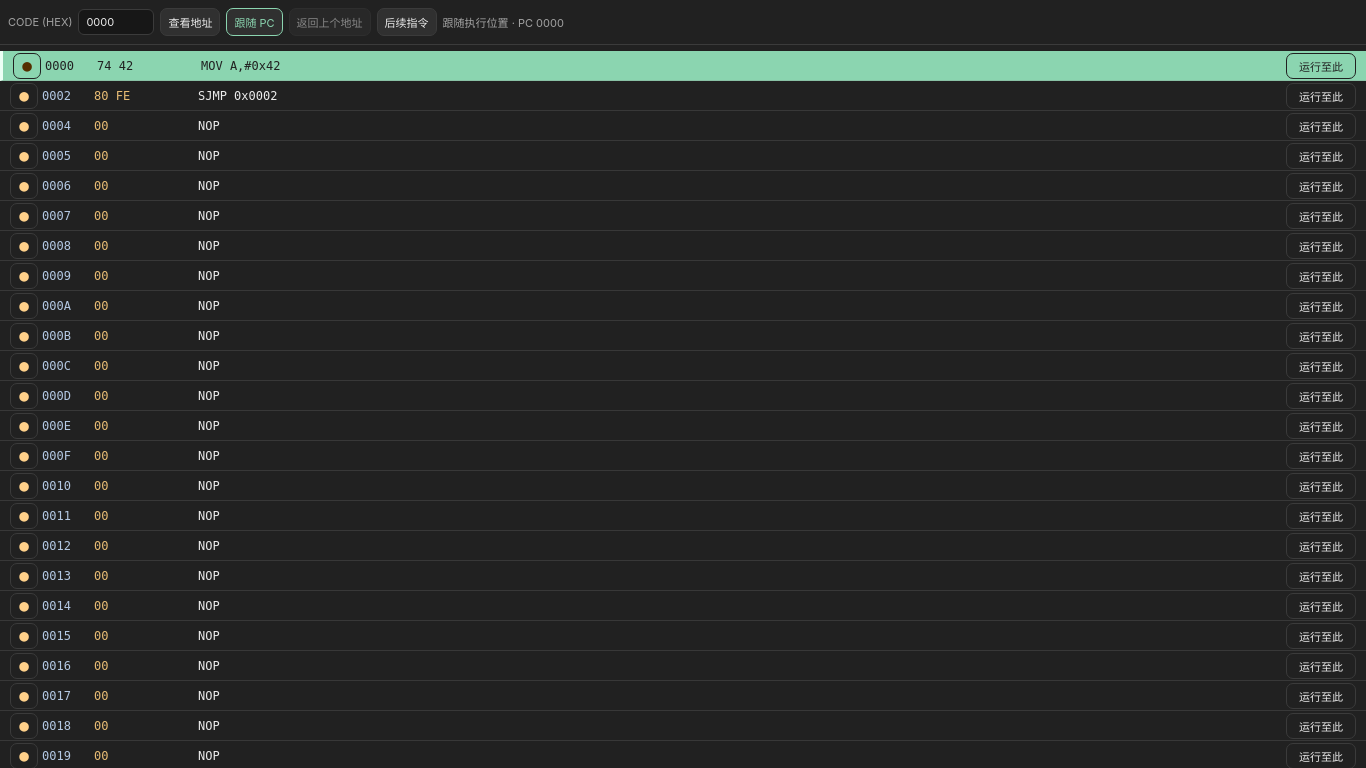
Test: DisassemblyView › allows removing existing breakpoints at the configuration limit
This screenshot has width=1366, height=768.
Expected: the button named "切换断点 0000" is enabled, [13,52,41,78]
Replace the text in the field named "反汇编起始地址" with "1000". click: (116, 22)
box: [78,9,154,35]
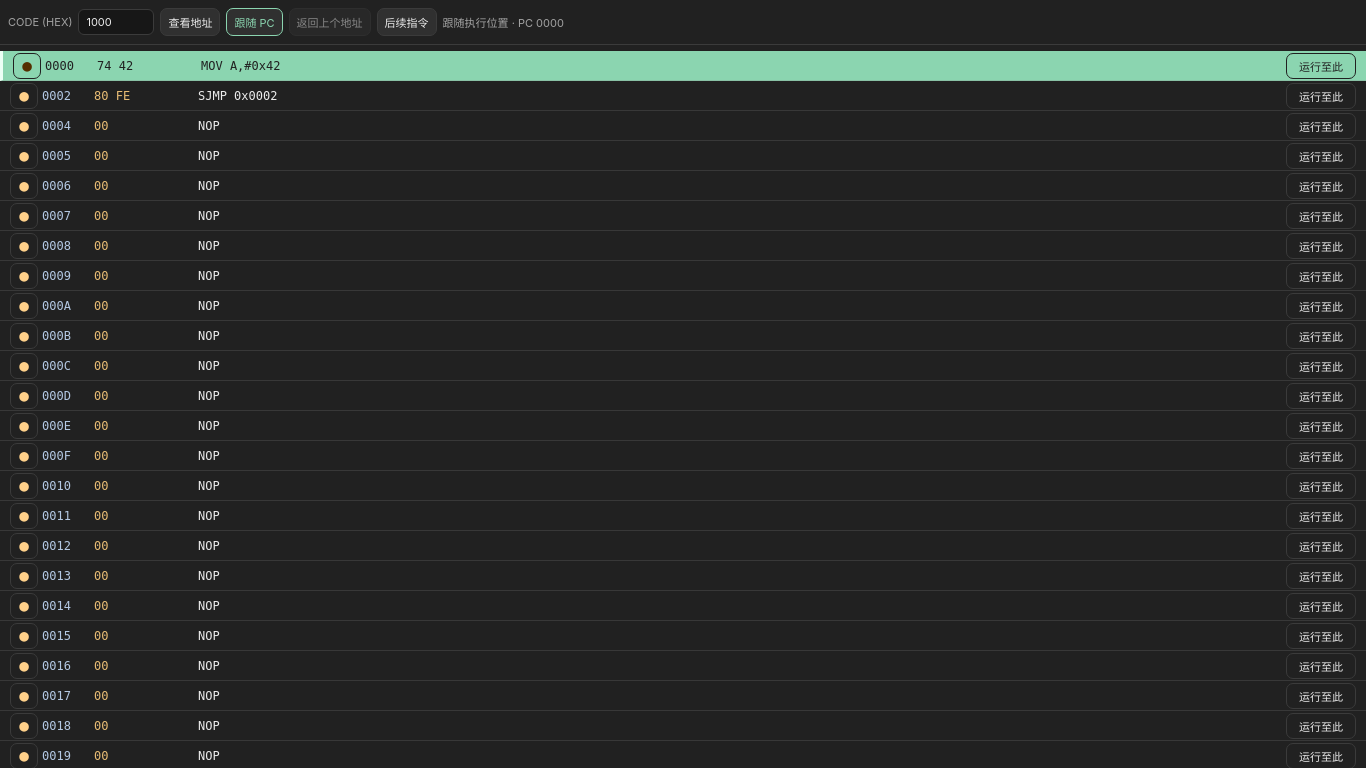
Submit the form, box [0,0,1365,45]
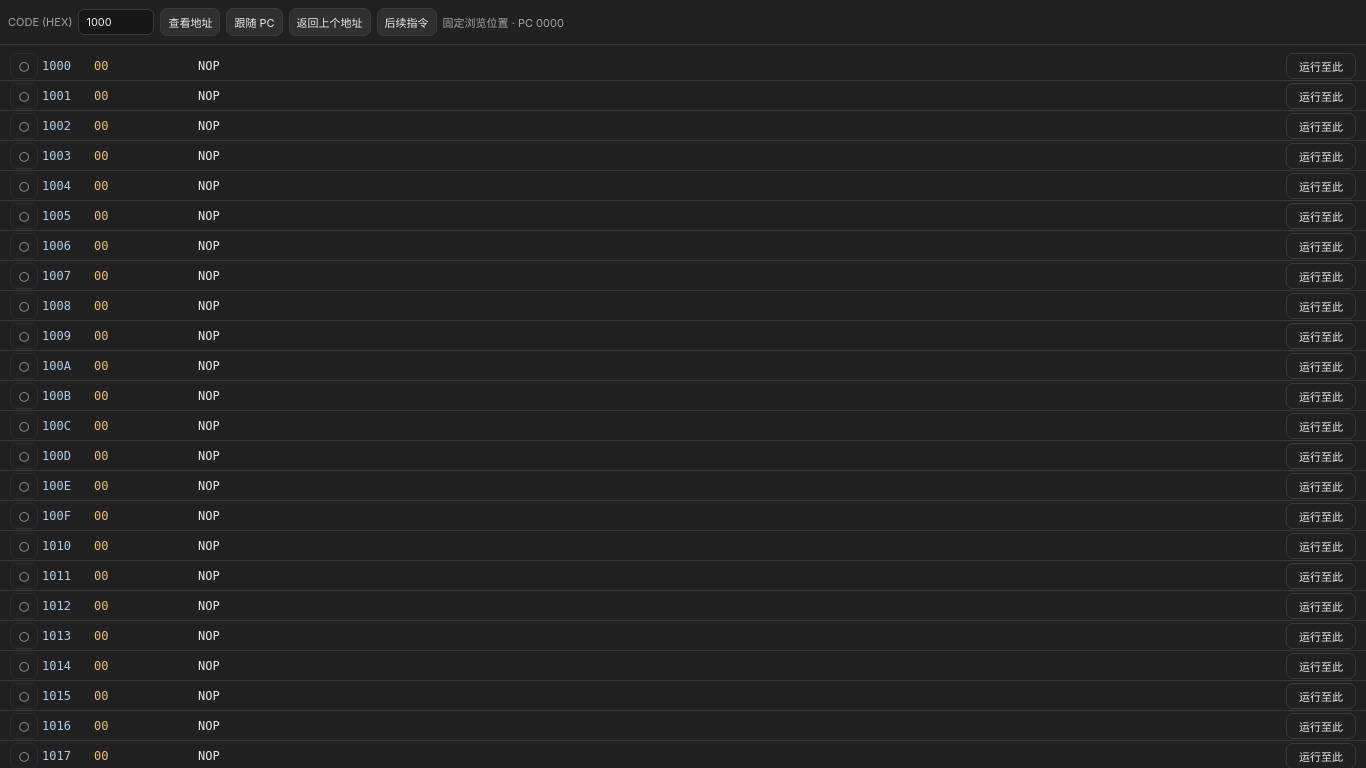
Result: the button named "切换断点 1000" is disabled at [10,52,38,78]
